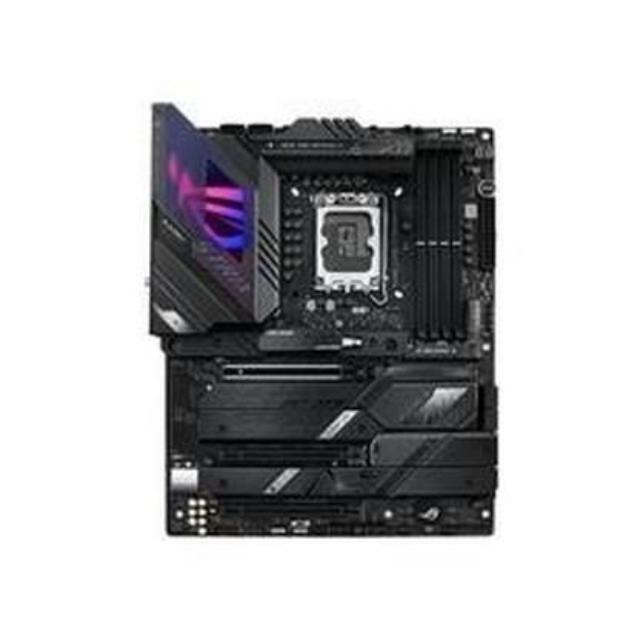Mainboard: (148, 104, 502, 552)
